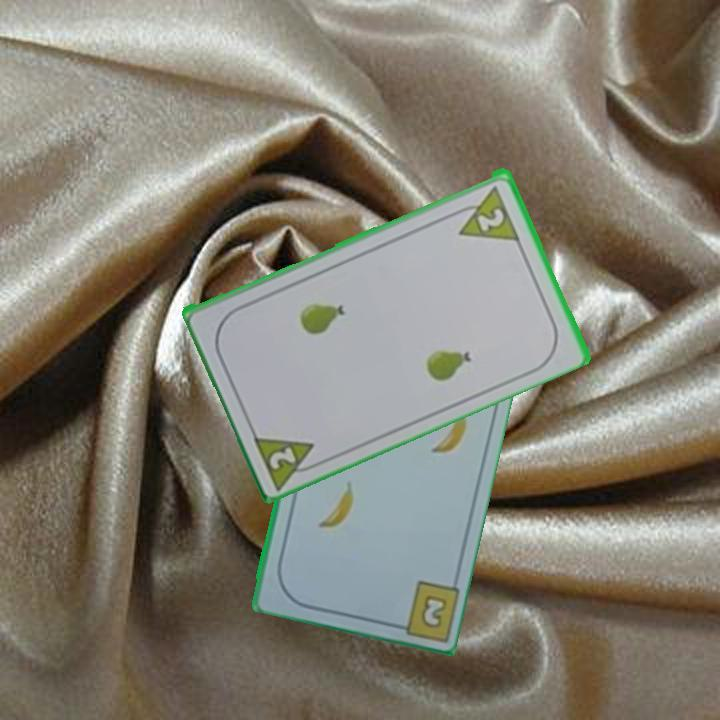2b: (419, 590, 450, 628)
2p: (249, 428, 327, 490), (448, 180, 522, 243)
